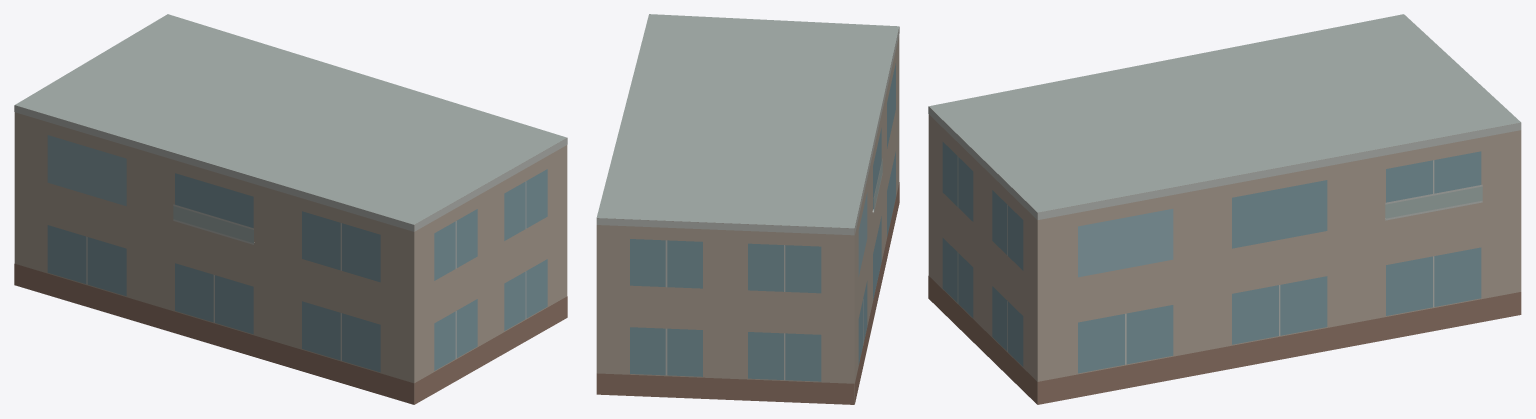
The model's file is survey-upis-32998537.glb.
The picture shows the model from 3 angles, left to right: view 1: azimuth 30°, elevation 25°; view 2: azimuth 150°, elevation 25°; view 3: azimuth 270°, elevation 25°; orthographic projection. The views are drawn at different scales.
Visible parts, largest first — view 1: survey-upis-32998537.tmp; view 2: survey-upis-32998537.tmp; view 3: survey-upis-32998537.tmp.
Boxes of the visible parts, x1,y1,x2,y2 form: survey-upis-32998537.tmp: (14, 14, 567, 404); survey-upis-32998537.tmp: (596, 14, 899, 404); survey-upis-32998537.tmp: (928, 14, 1521, 404).
Bounding box in the file's own units: 13.75 × 6.2 × 17.34.
